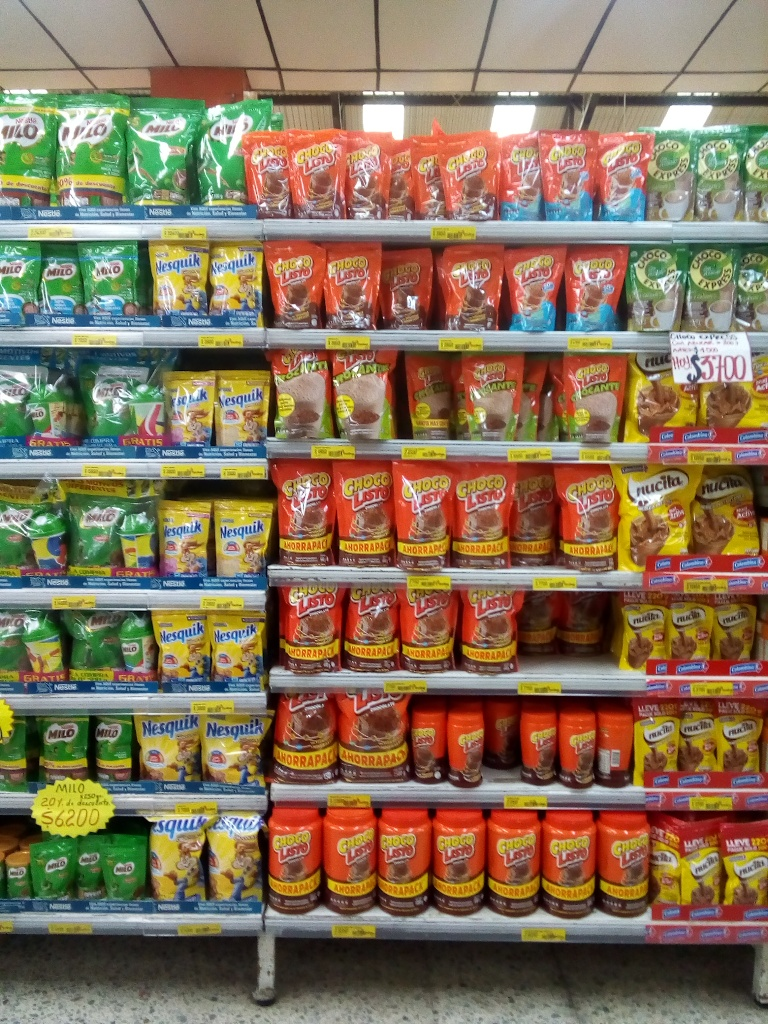COL0170102DYP50000: (264, 345, 329, 441)
COL0170103DYP1,500: (271, 686, 340, 783)
COL0170103DYP20000: (241, 127, 289, 221)
COL0170103DYP44000: (277, 580, 344, 673)
COL0170103TRR00100: (266, 807, 326, 917)
COL0170103TRR30000: (407, 705, 448, 784)
COL0170104DYP20000: (501, 244, 566, 334)
COL0170203DYP10000: (99, 846, 148, 903)
COL0170203DYP25000: (35, 715, 91, 786)
COL0170203DYP50000: (61, 608, 123, 694)
COL0170205DYP20000: (0, 242, 42, 319)
COL0170205DYP50000: (70, 361, 133, 445)
COL0170303DYP20000: (199, 706, 268, 792)
COL0170305DYP20000: (153, 499, 212, 582)
COL0170306DYP20000: (213, 499, 269, 582)
